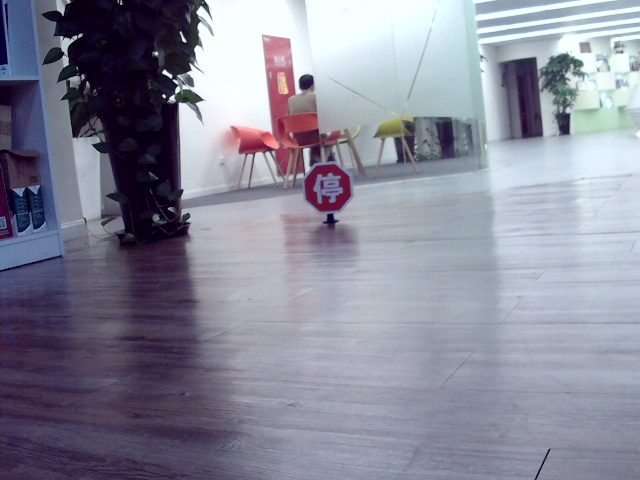stop: (310, 168, 341, 204)
